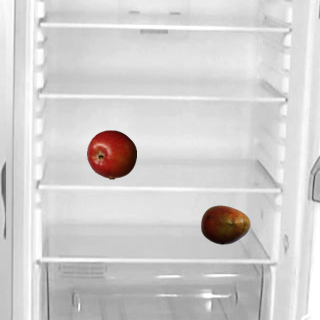Apple Braeburn: (86, 129, 136, 179)
Mango Red: (200, 199, 250, 249)
